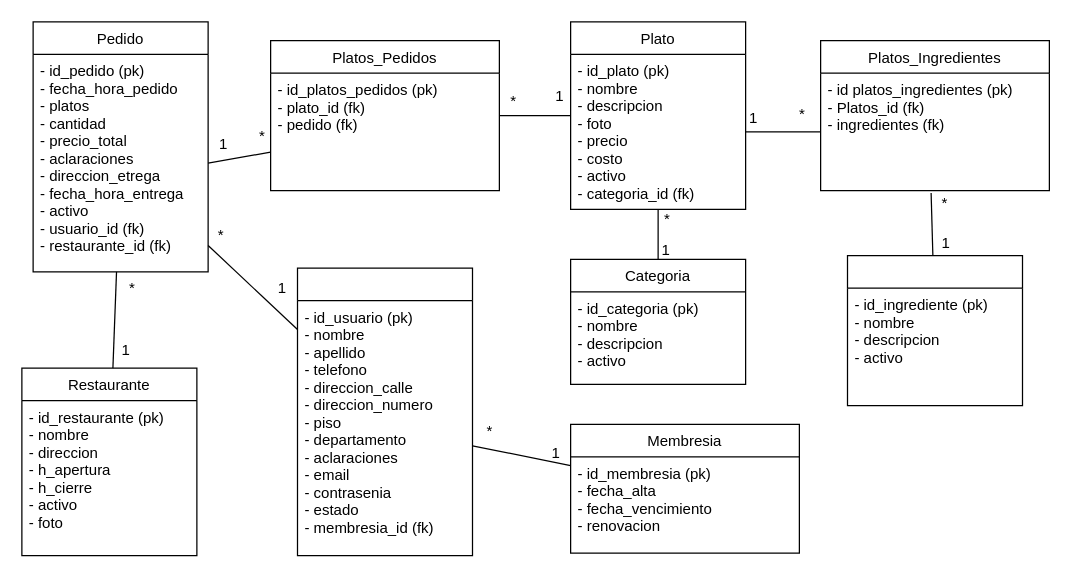
This 1071x581 diagram has some shape labels left out. The shapes that lost their labels are listed below. From the top down, each one's box as (x1, y1, x2, y2) in pixels, then its label:
(846, 254, 1022, 406): Ingredientes
(296, 267, 472, 556): Ususario
